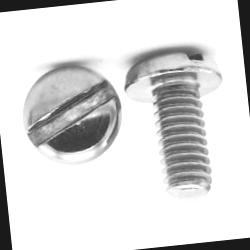screw: (19, 55, 126, 170)
